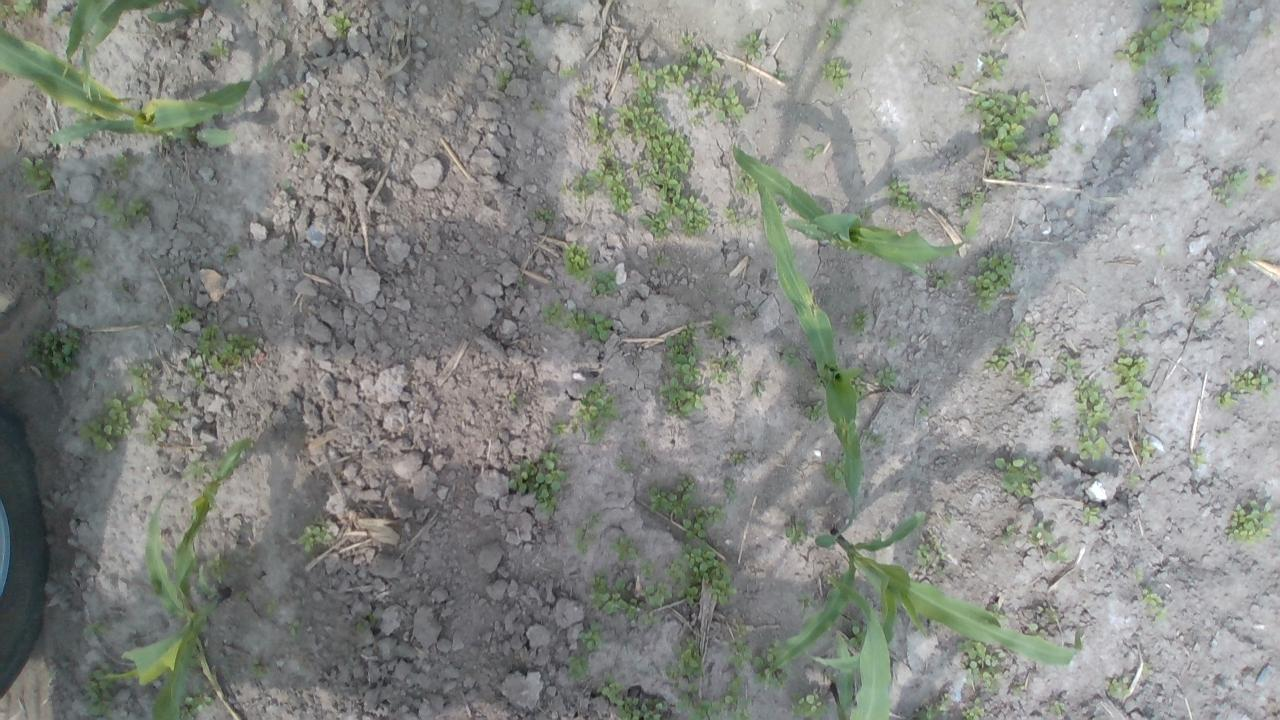Maize: (764, 512, 1084, 682), (97, 436, 250, 720), (758, 180, 862, 550), (732, 141, 980, 284), (0, 25, 254, 150), (60, 0, 204, 104), (826, 580, 892, 720)
Weeds: (612, 88, 694, 200), (966, 89, 1040, 162), (664, 541, 738, 608), (656, 322, 706, 420), (574, 143, 634, 214), (190, 323, 256, 386), (508, 451, 569, 516), (76, 392, 133, 452), (24, 326, 82, 384), (542, 302, 615, 342), (968, 252, 1016, 311), (572, 383, 619, 443), (1114, 22, 1168, 74), (1151, 0, 1223, 35), (687, 81, 745, 123), (1224, 500, 1278, 545), (659, 193, 712, 238), (958, 634, 1002, 688), (1110, 352, 1150, 410), (96, 189, 148, 230), (646, 476, 696, 518), (1074, 376, 1114, 428), (627, 59, 689, 92), (671, 682, 724, 720), (82, 668, 120, 720), (142, 397, 182, 446), (992, 456, 1038, 498), (663, 637, 706, 681), (681, 503, 725, 544), (588, 570, 628, 614), (46, 240, 76, 297), (1230, 366, 1274, 402), (752, 644, 789, 686), (724, 672, 754, 720), (126, 360, 154, 408), (982, 0, 1017, 37), (615, 695, 666, 720), (789, 689, 830, 720), (562, 241, 592, 282), (886, 178, 921, 212), (20, 155, 52, 192), (180, 685, 213, 720), (1076, 426, 1108, 460), (820, 58, 851, 93), (707, 354, 742, 383), (574, 513, 600, 552), (726, 636, 754, 672), (1141, 585, 1169, 621), (296, 524, 332, 552), (637, 210, 672, 238), (1216, 250, 1256, 274), (686, 46, 720, 74), (917, 692, 951, 720), (15, 233, 50, 260), (979, 52, 1010, 82), (205, 553, 235, 584), (625, 598, 658, 626), (638, 581, 672, 608), (608, 534, 640, 562), (325, 9, 354, 39), (586, 112, 612, 144), (578, 618, 604, 650), (1118, 318, 1146, 346), (783, 518, 810, 546), (736, 30, 763, 57), (733, 168, 759, 196), (959, 190, 987, 216), (1016, 150, 1052, 170), (1041, 112, 1060, 149), (566, 655, 592, 682), (168, 302, 193, 330), (1014, 321, 1036, 352), (590, 270, 616, 296), (983, 346, 1010, 371), (1028, 522, 1055, 547), (599, 678, 624, 704), (1104, 676, 1130, 701), (0, 0, 38, 17), (822, 459, 846, 485), (86, 620, 114, 642), (722, 206, 756, 224), (1134, 99, 1160, 122), (1224, 170, 1248, 194), (961, 697, 986, 720), (910, 543, 932, 569), (846, 310, 866, 338), (846, 622, 866, 650), (781, 346, 804, 370), (706, 313, 728, 337), (989, 159, 1014, 180), (1204, 80, 1225, 105), (206, 36, 229, 58), (824, 16, 845, 40), (1256, 166, 1277, 190), (873, 367, 898, 387), (1044, 543, 1070, 562), (72, 255, 95, 276), (110, 151, 131, 174), (510, 0, 537, 17), (1060, 357, 1084, 376), (527, 207, 555, 223), (1014, 366, 1036, 386), (1214, 187, 1234, 209), (803, 401, 824, 421), (493, 70, 512, 92), (932, 271, 954, 290), (988, 604, 1008, 624), (183, 459, 204, 478), (803, 144, 825, 162), (186, 645, 202, 669), (1214, 391, 1234, 410), (1194, 63, 1216, 80), (1081, 506, 1101, 524), (1224, 286, 1242, 306), (999, 524, 1015, 546), (252, 655, 266, 680), (550, 415, 568, 434), (558, 63, 578, 80), (850, 378, 865, 400), (1199, 298, 1214, 320), (946, 61, 964, 79), (222, 242, 240, 260), (1138, 438, 1152, 461), (288, 138, 308, 154), (1238, 302, 1255, 320), (860, 430, 880, 445), (723, 478, 737, 499), (514, 34, 531, 51), (1190, 452, 1208, 468), (264, 598, 280, 616), (640, 559, 656, 576), (799, 595, 818, 609), (838, 0, 864, 10), (1160, 63, 1180, 76), (289, 87, 306, 102), (288, 620, 302, 638), (616, 457, 632, 472), (1048, 700, 1064, 715), (934, 542, 946, 561), (1050, 416, 1062, 434), (1126, 472, 1140, 487), (729, 453, 745, 465), (680, 32, 693, 46), (886, 336, 898, 350), (510, 393, 520, 409), (1188, 42, 1201, 54), (282, 178, 292, 192), (775, 204, 784, 218), (919, 406, 930, 417), (516, 276, 526, 288), (353, 622, 365, 632), (859, 208, 870, 218), (1027, 622, 1040, 630), (1136, 569, 1144, 582), (776, 70, 786, 80), (752, 382, 763, 391), (1012, 687, 1022, 695), (559, 183, 565, 192)
